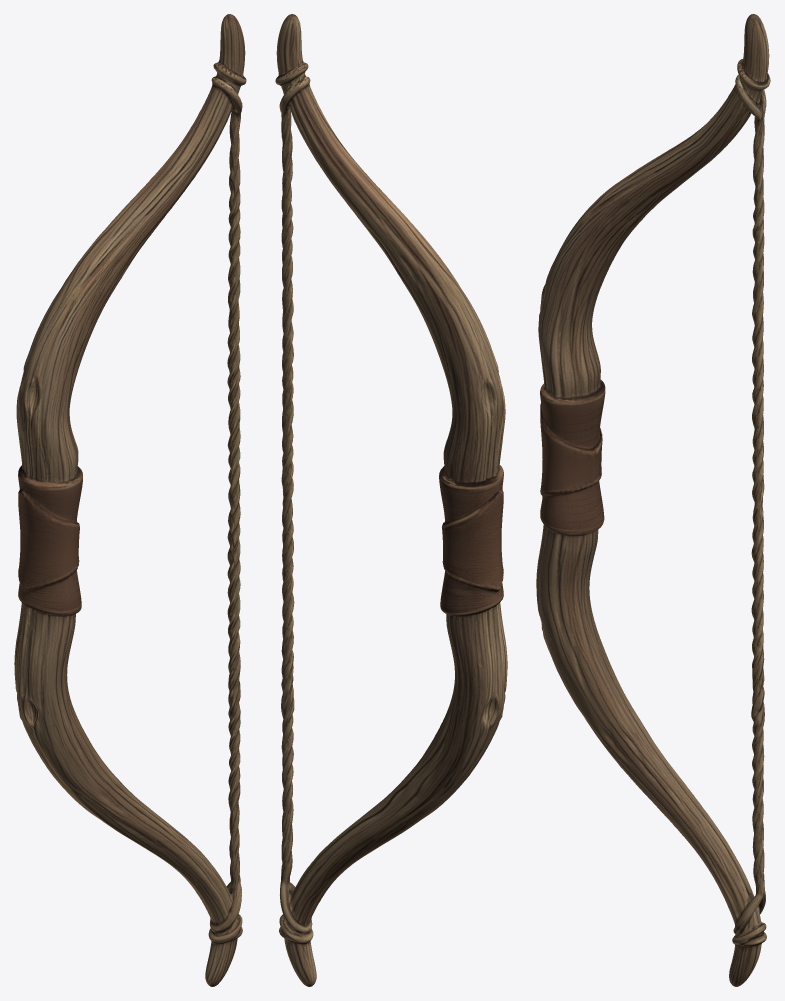
Rendered from Meshy_AI_Wooden_Bow_Model_0217092042_texture.fbx.
3 renders of one model, left to right at view 1: azimuth 30°, elevation 25°; view 2: azimuth 150°, elevation 25°; view 3: azimuth 330°, elevation 25°, orthographic.
Visible parts, largest first — view 1: Mesh_0; view 2: Mesh_0; view 3: Mesh_0.
Boxes of the visible parts, x1,y1,x2,y2 form: Mesh_0: [14, 14, 246, 986]; Mesh_0: [275, 14, 507, 986]; Mesh_0: [536, 14, 770, 986].
Bounding box in the file's own units: 46.16 × 190 × 13.
Materials: 1 (1 with a texture image).
